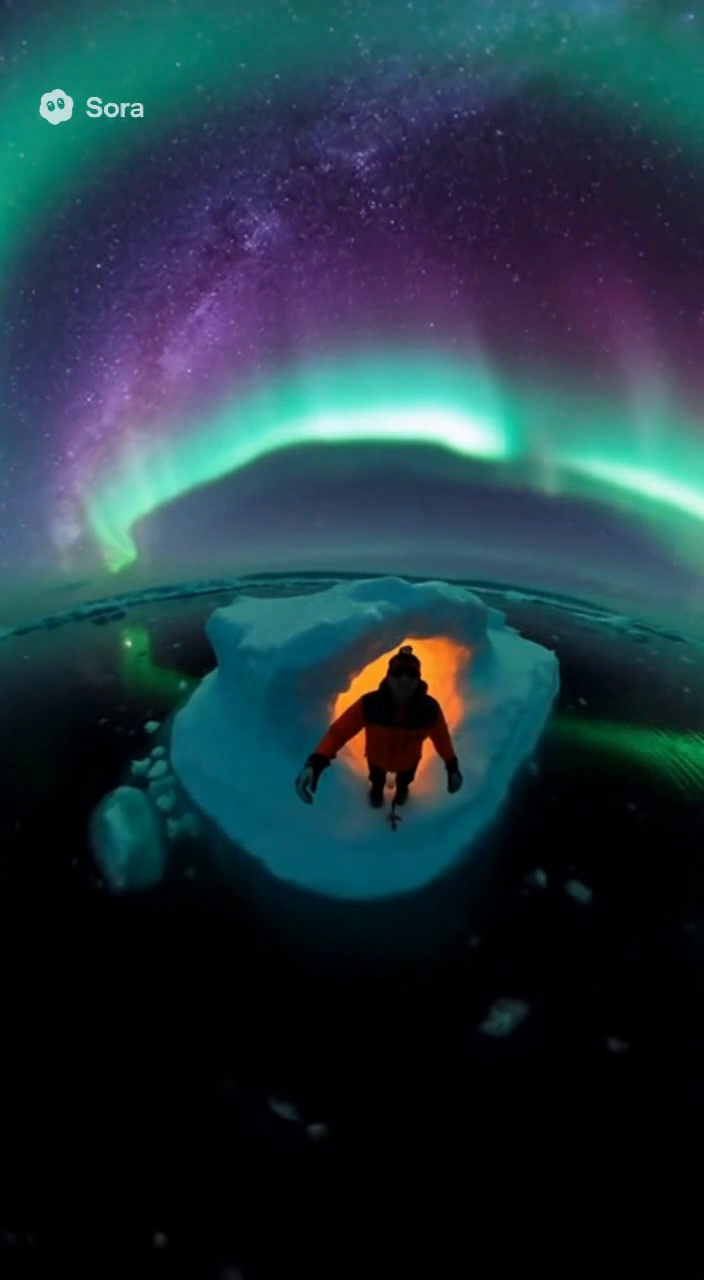watermark: (31, 86, 127, 129)
